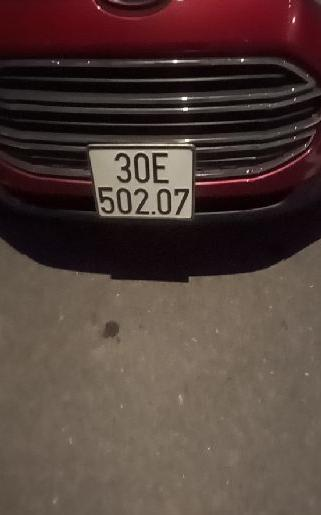Plate-iWeP: (95, 146, 196, 221)
